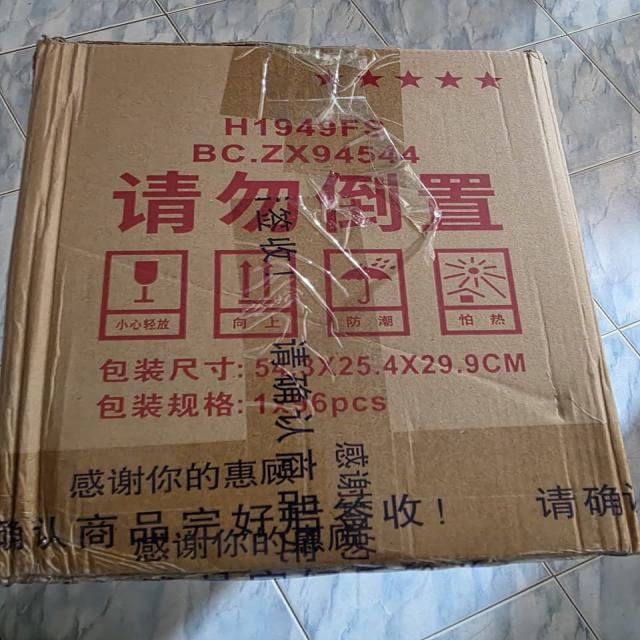carton_box: (10, 29, 640, 580)
fragile_label: (80, 234, 201, 352)
keep_dry_label: (322, 243, 418, 341)
protect_from_heat_label: (430, 241, 535, 342)
this_side_up_label: (205, 238, 309, 343)
